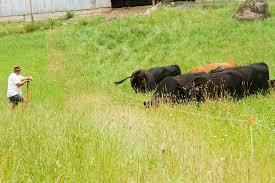cow: (192, 61, 270, 108), (144, 72, 225, 115), (115, 68, 160, 96), (183, 59, 239, 79), (153, 64, 182, 86)
